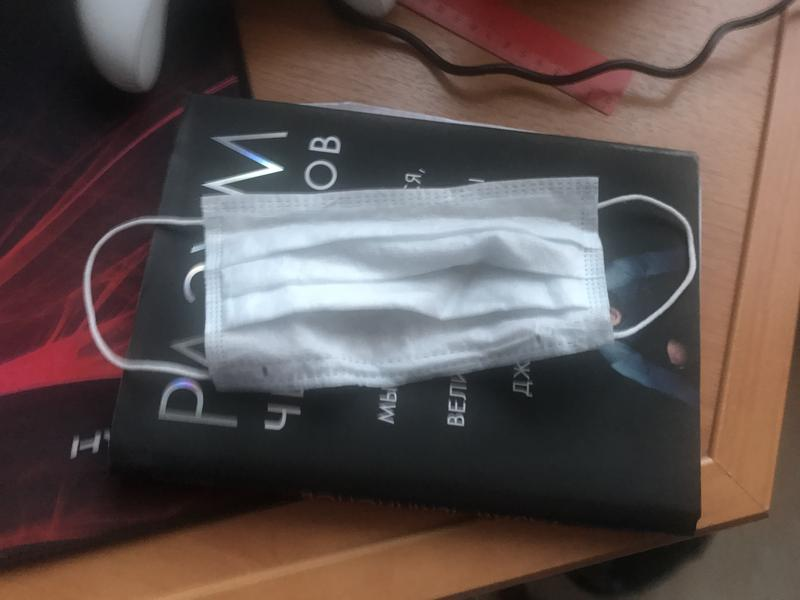medical_mask: (82, 182, 697, 391)
